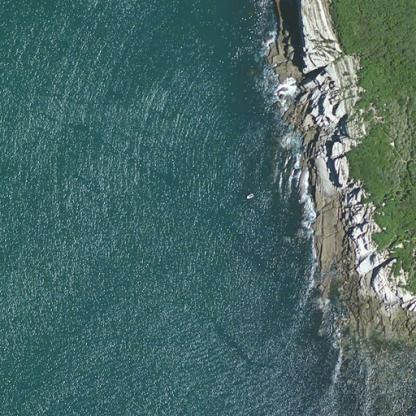ship: (240, 186, 260, 206)
